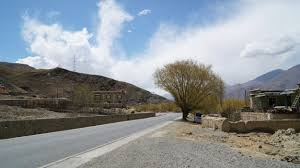strada: (0, 117, 291, 164)
